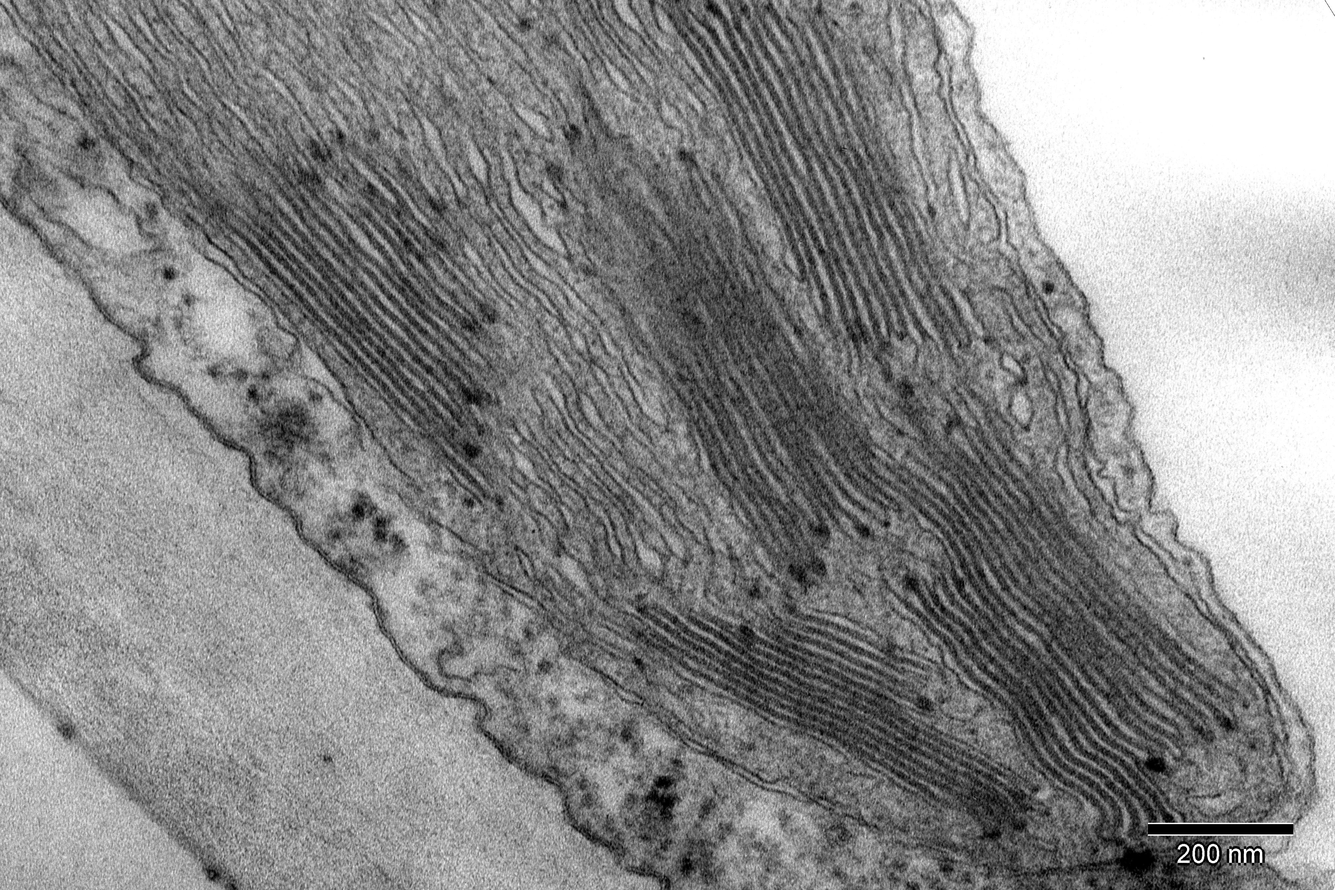granum: (863, 376, 1255, 850), (534, 123, 901, 600), (639, 0, 997, 369), (198, 118, 511, 489), (625, 586, 1053, 845)
